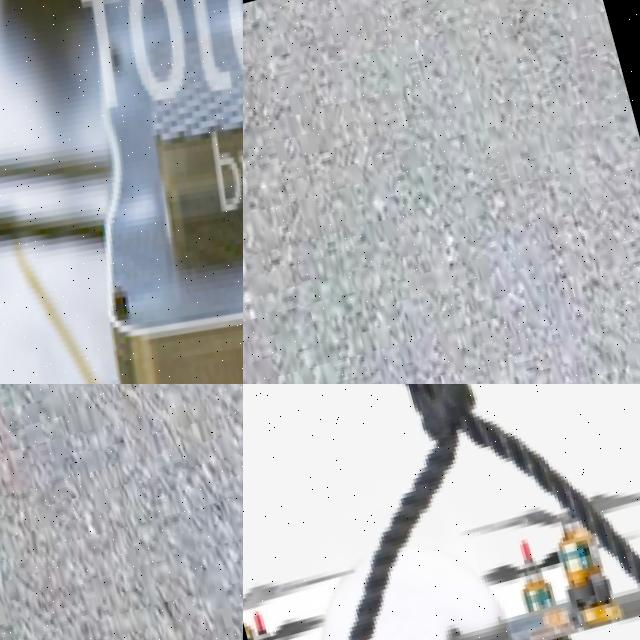drone: (0, 0, 243, 384)
